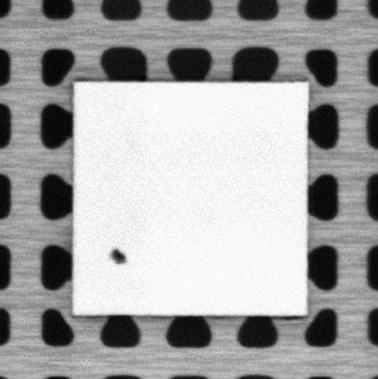DIE_INK: (107, 247, 127, 266)
